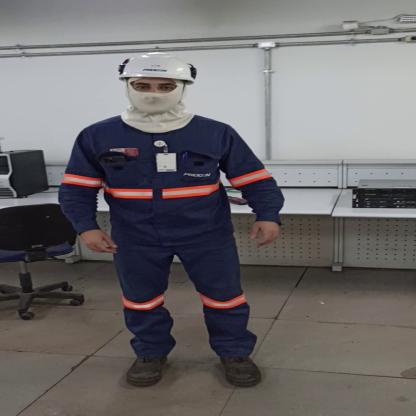Balaclava: (109, 78, 203, 133)
Capacete: (109, 50, 208, 86)
